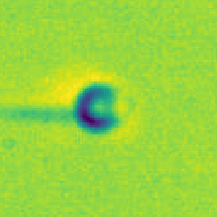normal: (1, 96, 70, 135)
